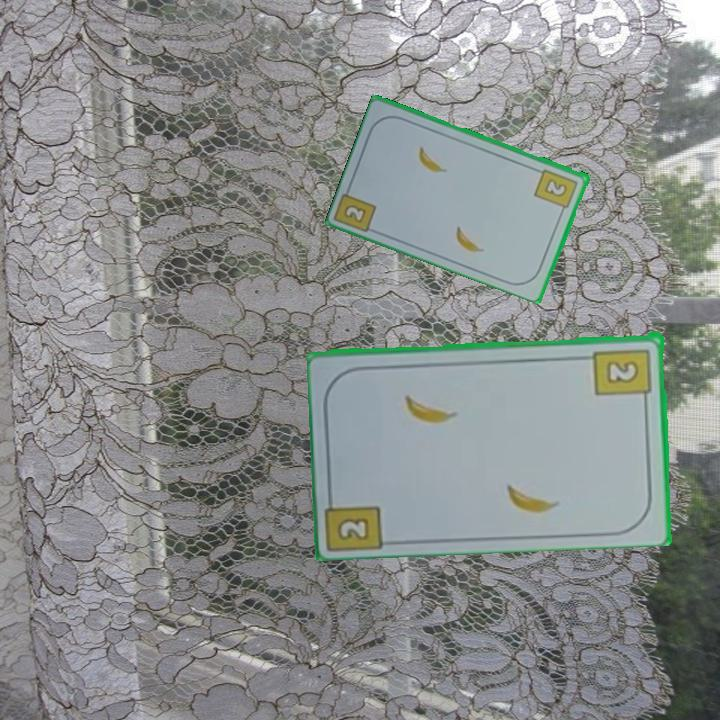2b: (325, 486, 389, 551), (591, 344, 654, 406), (531, 165, 581, 216), (340, 201, 369, 226)
